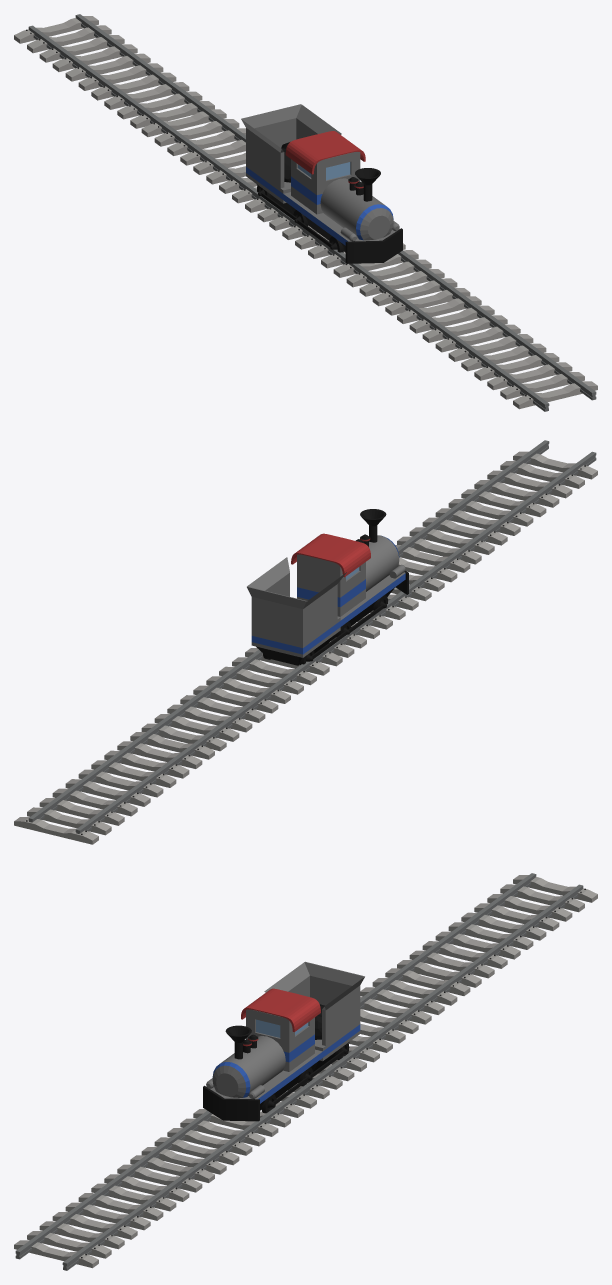
The model's file is trainModel.glb.
3 renders of one model, top to bottom at view 1: azimuth 30°, elevation 25°; view 2: azimuth 150°, elevation 25°; view 3: azimuth 330°, elevation 25°, orthographic.
Visible parts, largest first — view 1: Rails.002, GeoSphere002; view 2: Rails.002, GeoSphere002; view 3: Rails.002, GeoSphere002.
Boxes of the visible parts, x1,y1,x2,y2 form: Rails.002: (14,14,597,411); GeoSphere002: (241,104,402,263); Rails.002: (14,440,597,844); GeoSphere002: (247,509,408,665); Rails.002: (14,873,597,1270); GeoSphere002: (203,961,364,1121).
Bounding box in the file's own units: 38.2 × 41.33 × 434.
